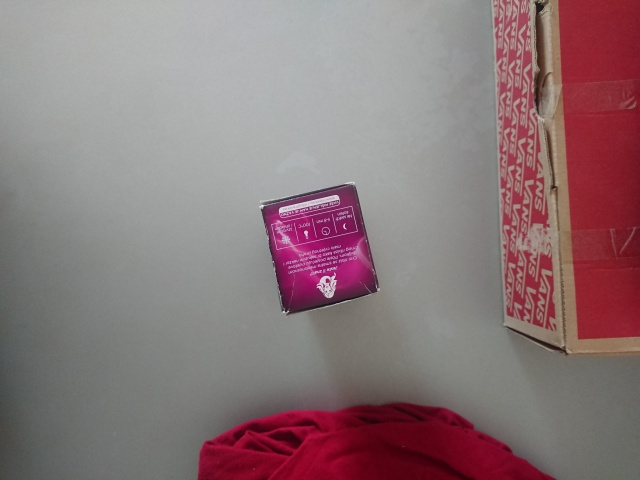Franck Black Currant Tea 60g: (256, 179, 384, 318)
